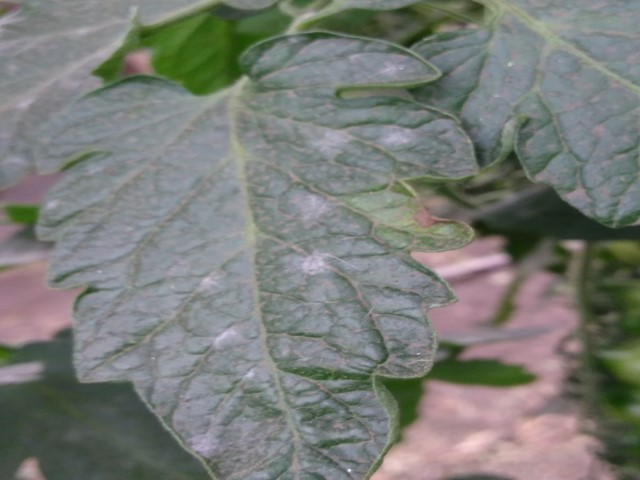oidio: (183, 427, 227, 459), (294, 188, 329, 224), (297, 250, 336, 281), (389, 127, 412, 149)
